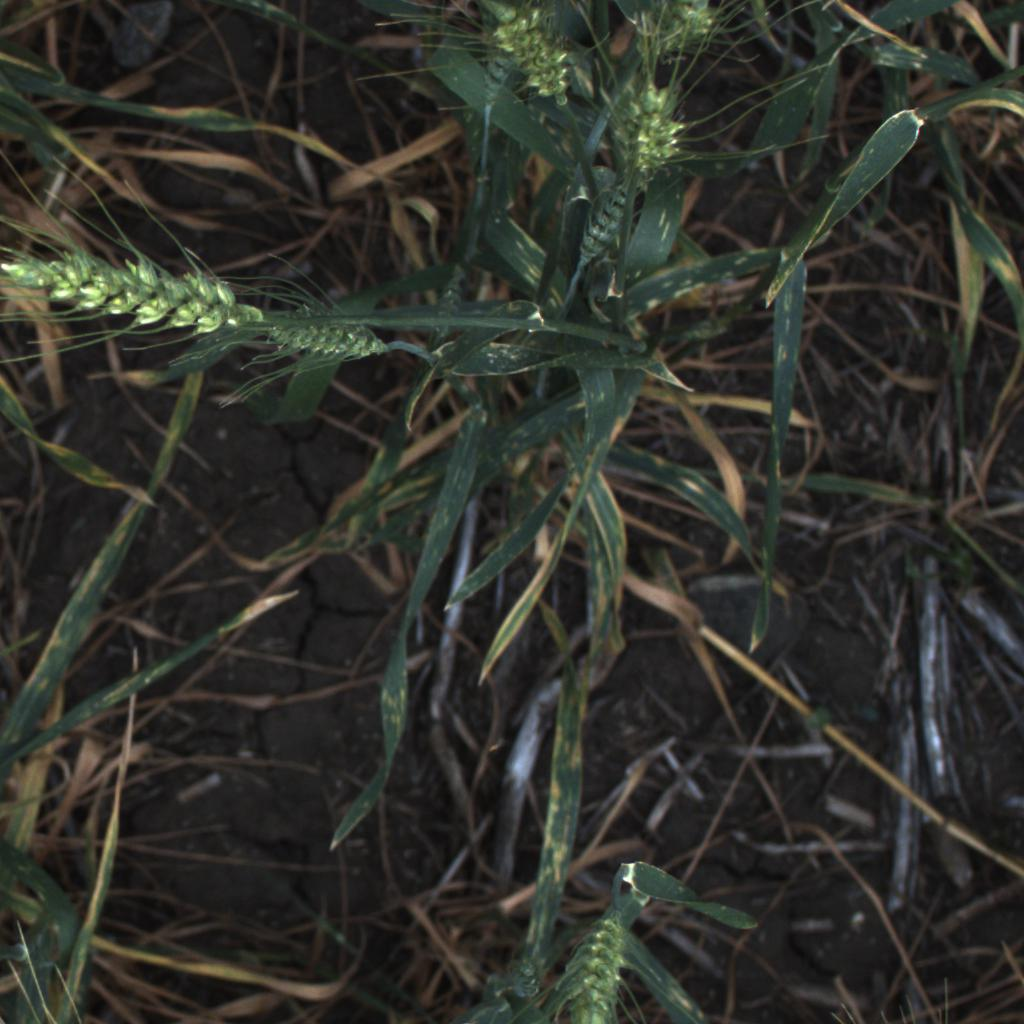0-0: (0, 232, 235, 335), (235, 282, 399, 375), (541, 886, 651, 1024), (478, 1, 586, 111), (602, 74, 690, 208), (570, 175, 634, 278), (661, 0, 733, 50), (620, 0, 676, 53)
